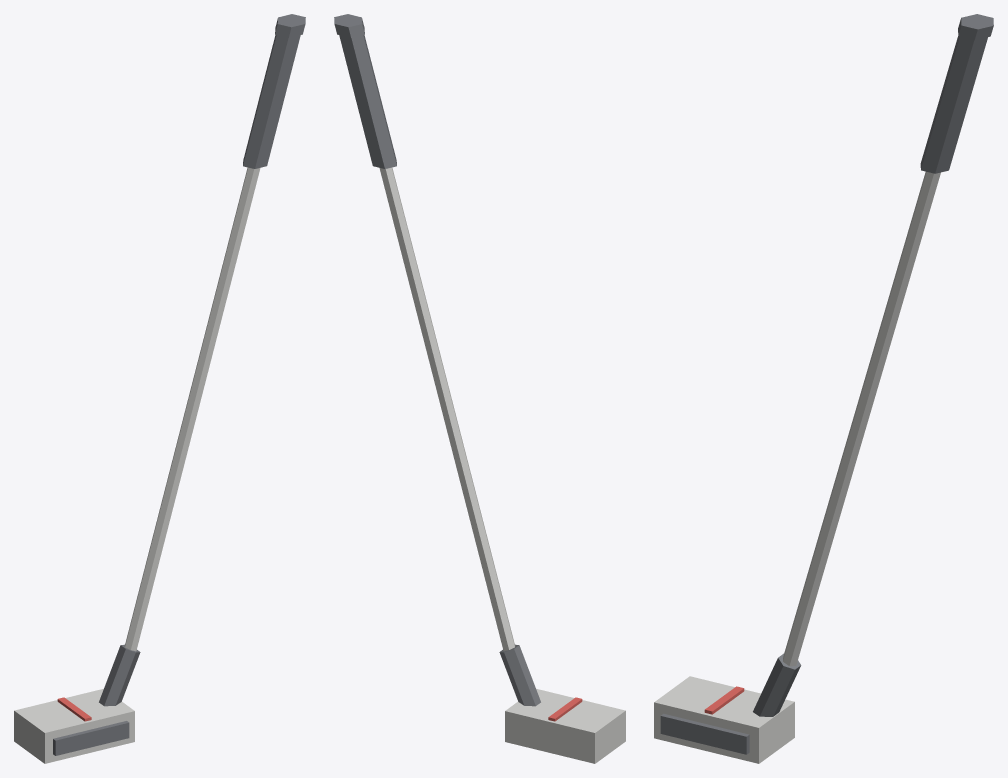
File: golf-course-and-clubhouse-golf-putter-d132f50a__33481.glb
3 renders of one model, left to right at view 1: azimuth 30°, elevation 25°; view 2: azimuth 150°, elevation 25°; view 3: azimuth 330°, elevation 25°, orthographic. The views are drawn at different scales.
Visible parts, largest first — view 1: golf-putter; view 2: golf-putter; view 3: golf-putter.
Part boxes in pixels (x1,y1,x2,y2): golf-putter: [14, 14, 305, 763]; golf-putter: [334, 14, 625, 763]; golf-putter: [654, 14, 993, 763].
Bounding box in the file's own units: 0.3741 × 0.8641 × 0.078.
